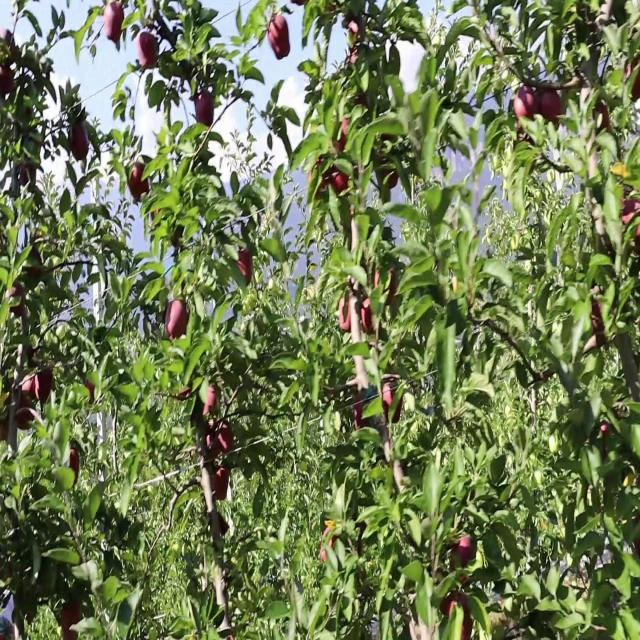apple: (440, 591, 472, 639), (205, 420, 234, 460), (190, 387, 216, 429), (206, 420, 234, 458), (268, 13, 290, 60), (449, 597, 473, 639), (440, 591, 471, 623), (381, 376, 402, 422), (624, 194, 639, 256), (165, 300, 188, 340), (104, 0, 124, 42), (136, 31, 158, 69), (69, 120, 89, 160), (60, 602, 81, 640), (128, 162, 149, 200), (514, 87, 538, 120), (539, 89, 562, 123), (450, 536, 472, 569), (194, 91, 214, 127), (5, 282, 25, 318), (319, 520, 336, 562), (35, 367, 54, 403), (626, 56, 640, 101), (0, 28, 18, 61), (308, 158, 322, 200), (212, 467, 229, 500), (352, 393, 366, 431), (26, 247, 42, 279), (621, 198, 640, 224), (591, 298, 605, 333), (360, 298, 374, 333), (16, 404, 34, 431), (592, 102, 610, 129), (20, 376, 36, 406), (238, 249, 252, 282), (335, 118, 349, 151), (338, 296, 351, 331), (202, 384, 216, 416), (202, 384, 216, 416), (314, 171, 329, 200), (386, 269, 398, 304), (330, 171, 349, 193), (16, 162, 32, 187), (69, 447, 80, 481), (85, 380, 95, 401), (0, 418, 9, 441), (600, 422, 610, 440), (24, 344, 35, 360), (632, 536, 640, 557), (634, 224, 640, 249), (374, 269, 380, 286)
